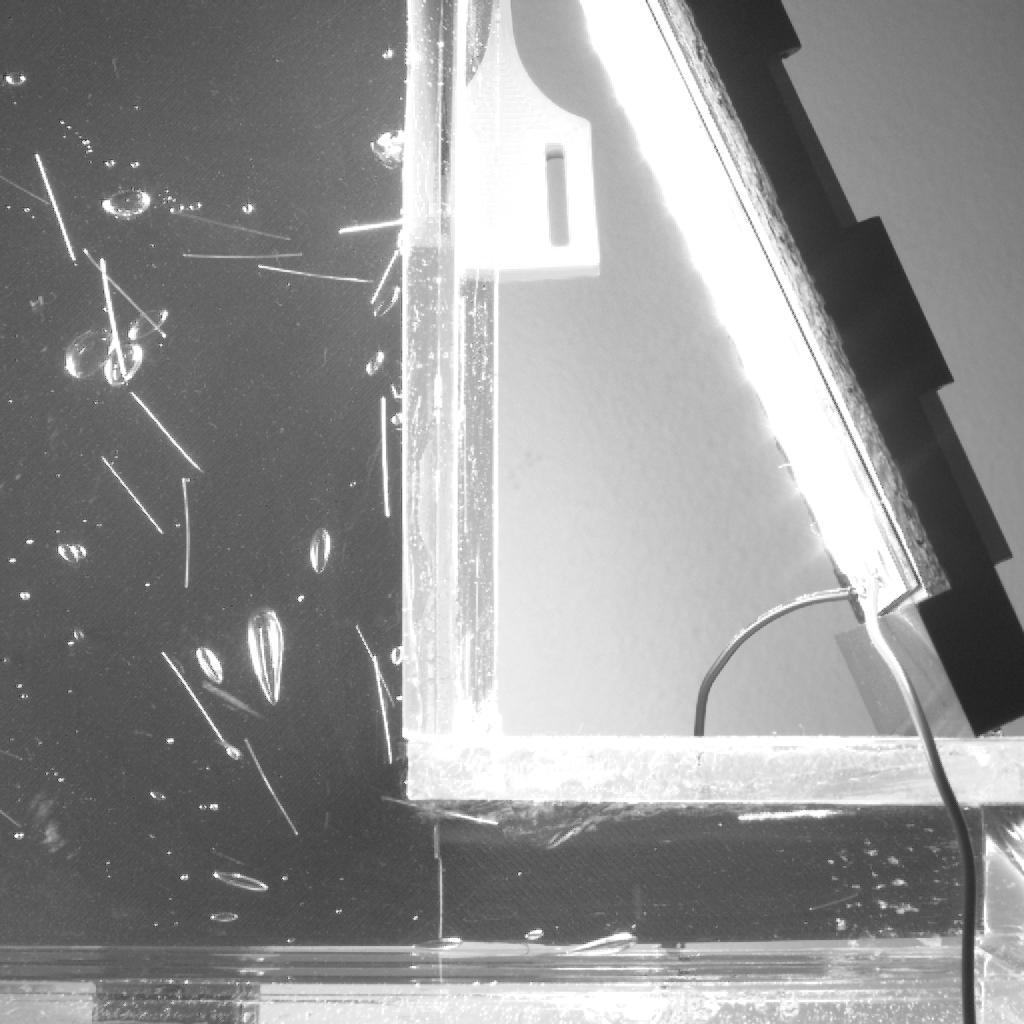Fiber: (155, 645, 238, 752), (79, 247, 171, 343), (234, 728, 305, 845), (23, 147, 88, 270), (126, 385, 207, 481), (95, 453, 164, 539), (379, 789, 506, 830), (352, 618, 403, 717), (169, 205, 294, 244), (100, 250, 132, 389), (363, 648, 398, 771), (376, 392, 403, 522), (363, 239, 409, 313), (733, 802, 867, 827), (174, 244, 311, 267), (252, 264, 379, 288), (0, 169, 57, 210), (179, 476, 198, 596), (332, 214, 419, 240), (804, 890, 861, 916), (0, 807, 24, 830), (0, 744, 21, 763)
